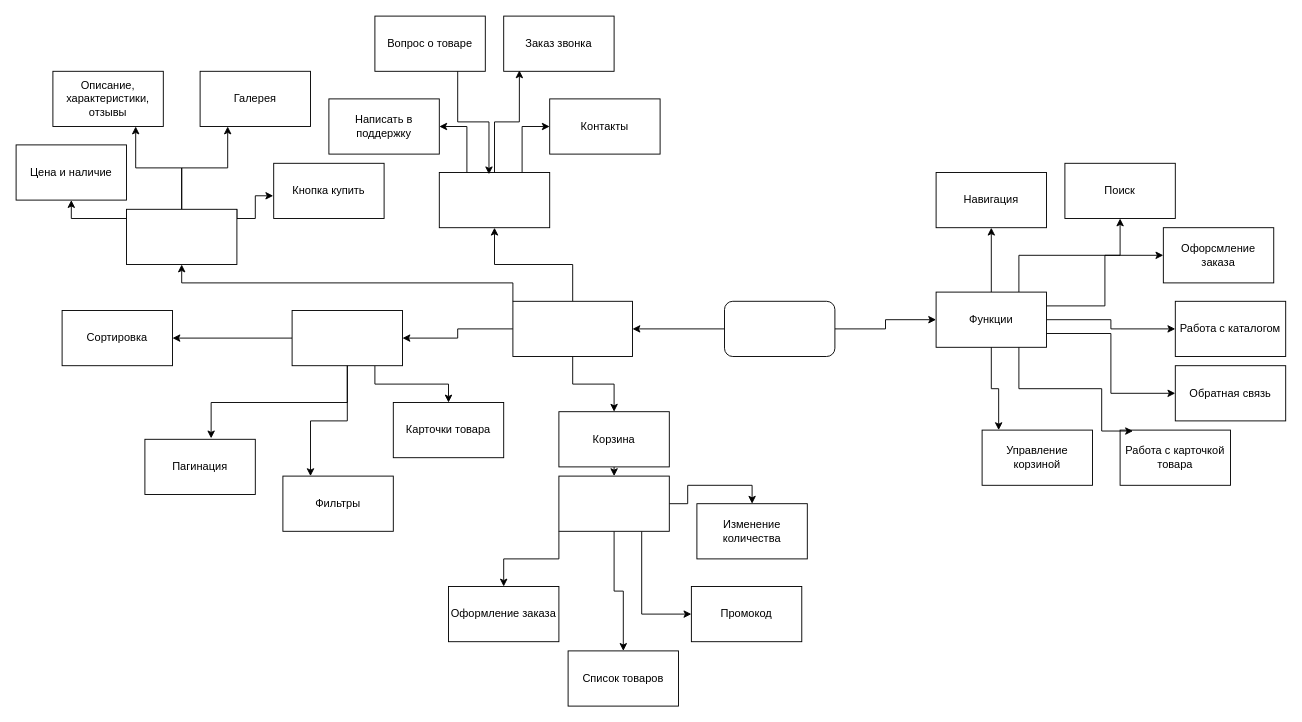
Some shapes in this 1302 by 722 pixel diagram are drawn without their labels. The box of each missing label's shape, as (x1, y1, x2, y2) in pixels:
Dns: (724, 300, 835, 356)
Итого: (558, 475, 669, 531)
Страница каталога: (291, 310, 402, 366)
Страница товара: (126, 208, 237, 264)
Форма обратной связи: (438, 172, 550, 228)
Элементы интерфейса: (512, 300, 632, 356)
